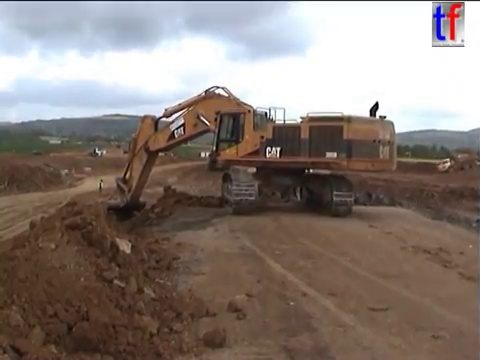excavator: (104, 82, 399, 236)
truck: (434, 150, 478, 175), (87, 146, 107, 159)
worker: (95, 177, 106, 199)
